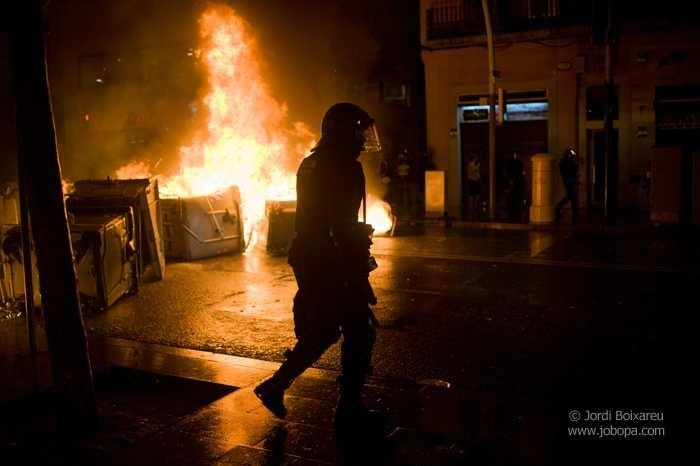fire: (210, 42, 250, 140), (204, 144, 261, 186)
